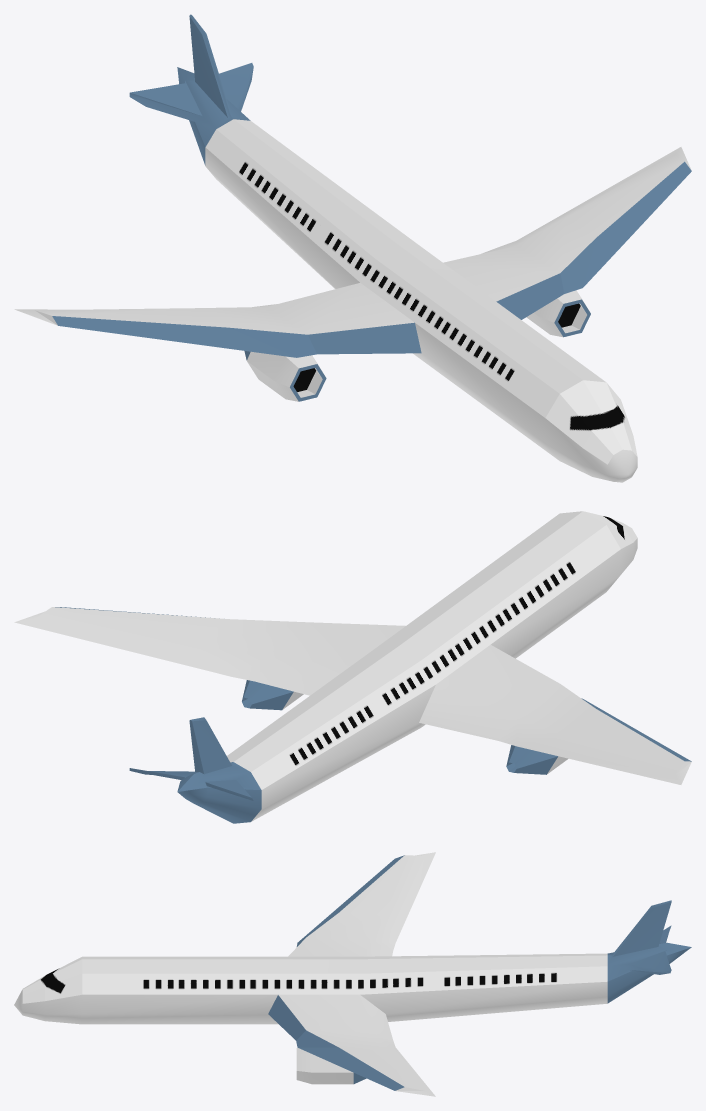
The model's file is airplane.gltf.
The picture shows the model from 3 angles, top to bottom: view 1: azimuth 30°, elevation 25°; view 2: azimuth 150°, elevation 25°; view 3: azimuth 270°, elevation 25°; orthographic projection. The views are drawn at different scales.
Parts seen in each view (by area): view 1: polySurface3, polySurface2; view 2: polySurface3, polySurface2; view 3: polySurface3, polySurface2.
Boxes of the visible parts, x1,y1,x2,y2 form: polySurface3: (14,14,691,482); polySurface2: (52,129,691,464); polySurface3: (14,511,691,823); polySurface2: (55,511,691,789); polySurface3: (14,852,691,1096); polySurface2: (22,855,607,1090).
Size of the model in its own units: 62.22 by 15.59 by 72.88.
4 materials, 1 textured.
